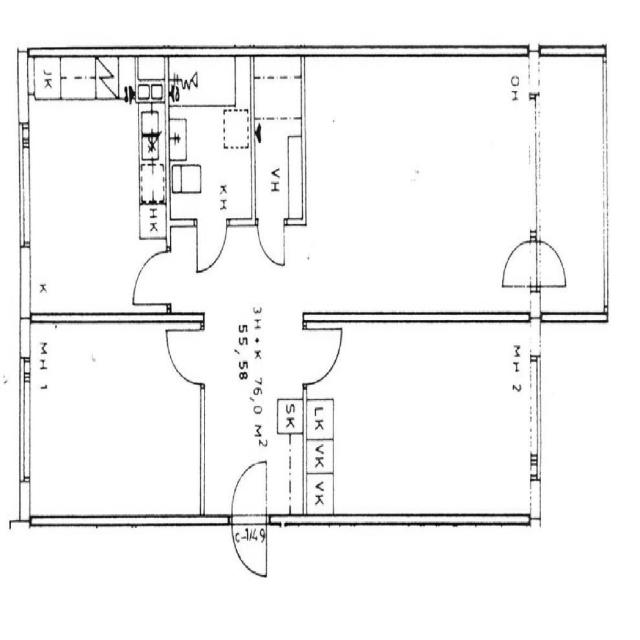door: (228, 454, 270, 578), (302, 320, 344, 389), (163, 324, 205, 384), (131, 248, 170, 307), (498, 237, 538, 290), (195, 220, 228, 275), (534, 237, 568, 290), (256, 222, 287, 268)
window: (525, 94, 544, 242), (15, 129, 35, 252), (16, 364, 35, 488), (527, 350, 544, 473), (20, 316, 35, 367)
zone: (307, 57, 531, 317), (312, 324, 536, 518), (27, 322, 204, 522), (22, 85, 165, 318), (92, 51, 260, 218), (536, 51, 608, 312), (255, 90, 304, 223)
